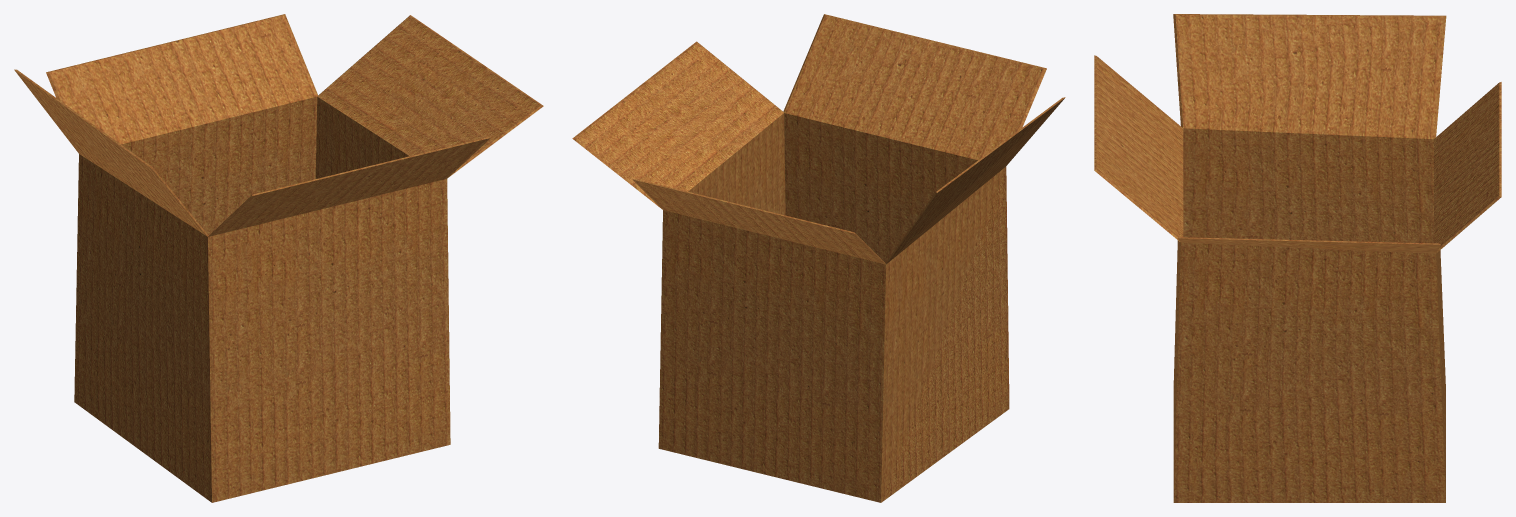
File: cardboard_a.FBX
The picture shows the model from 3 angles, left to right: view 1: azimuth 30°, elevation 25°; view 2: azimuth 150°, elevation 25°; view 3: azimuth 270°, elevation 25°; orthographic projection. The views are drawn at different scales.
Visible parts, largest first — view 1: cardboard_a; view 2: cardboard_a; view 3: cardboard_a.
Part boxes in pixels (x1,y1,x2,y2): cardboard_a: (14, 14, 543, 502); cardboard_a: (572, 14, 1065, 502); cardboard_a: (1094, 14, 1501, 502).
Size of the model in its own units: 77.22 by 65.38 by 69.9.
